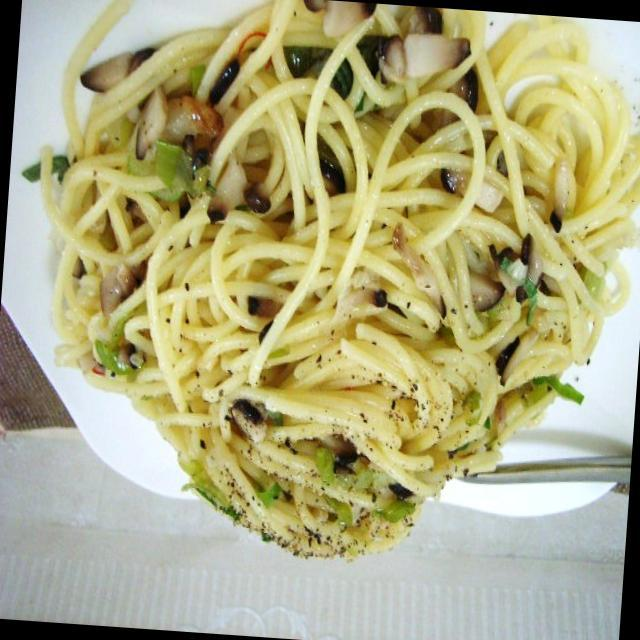Pasta: (32, 17, 630, 594)
